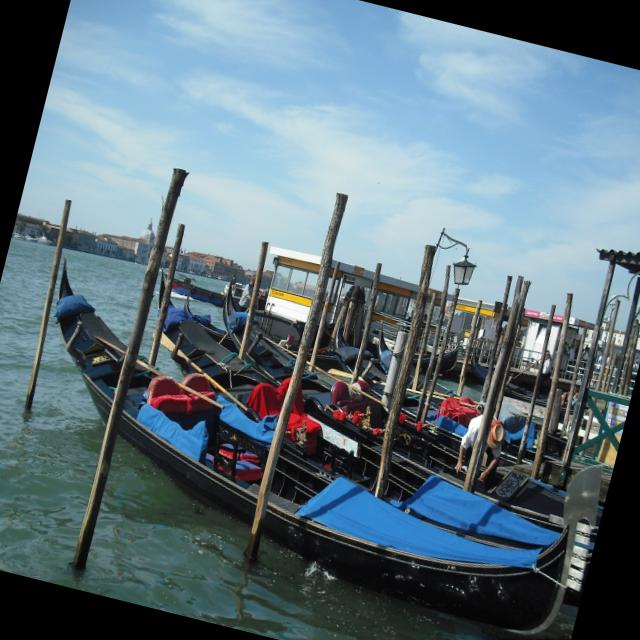boat: (0, 237, 634, 640), (98, 242, 639, 588)
